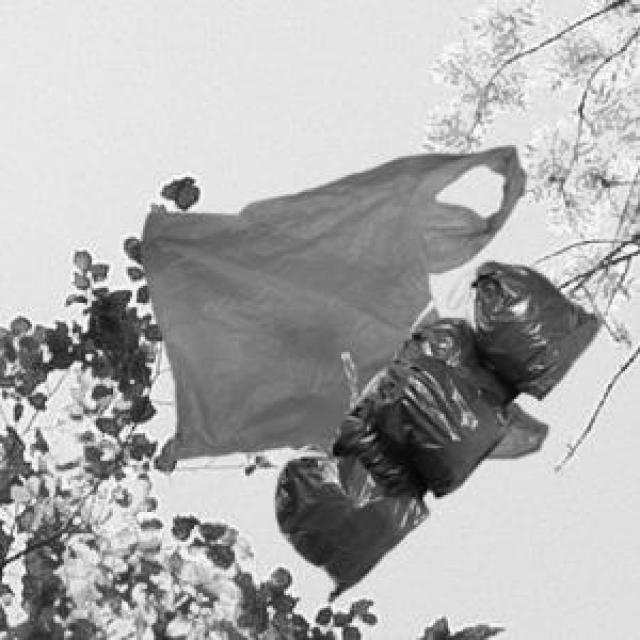miscellaneous trash: (271, 258, 600, 597)
